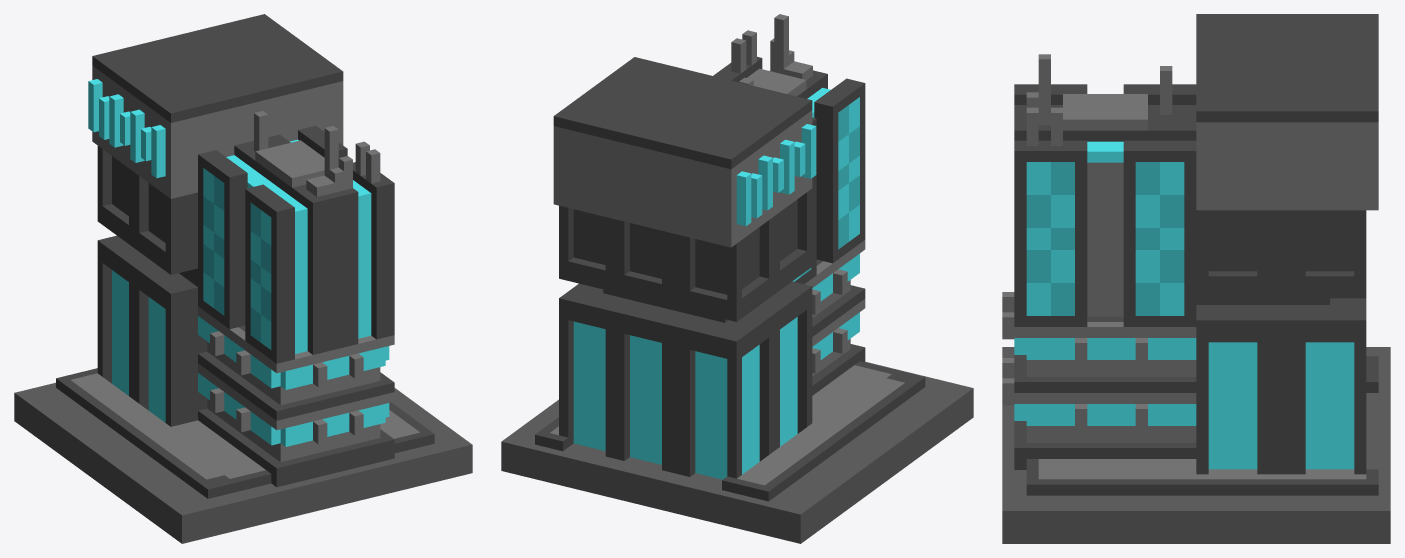
The model's file is _g_house_3.obj.
3 renders of one model, left to right at view 1: azimuth 30°, elevation 25°; view 2: azimuth 150°, elevation 25°; view 3: azimuth 270°, elevation 25°, orthographic. The views are drawn at different scales.
Bounding box in the file's own units: 3.2 × 3.8 × 3.2.
